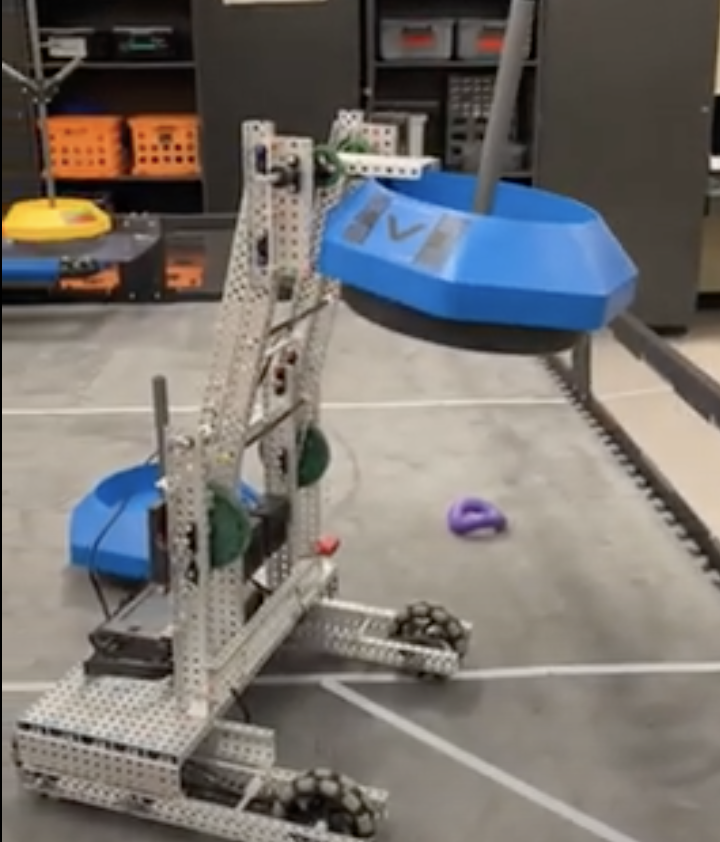ring: (448, 496, 507, 538)
